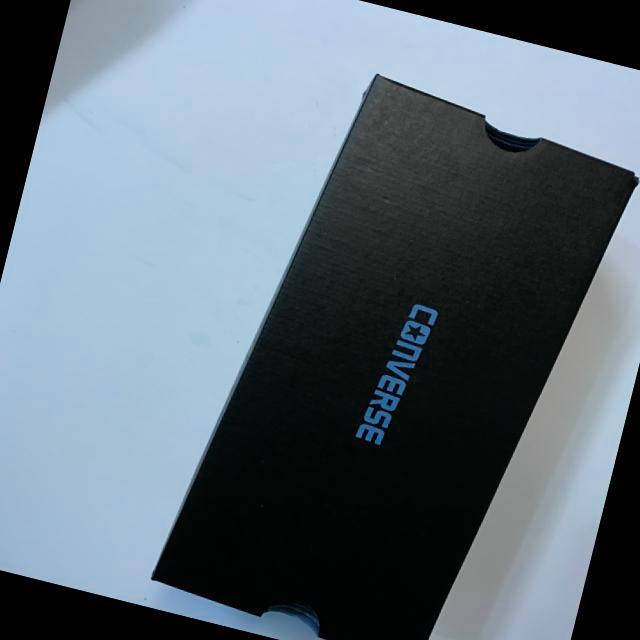cardboard: (136, 16, 640, 640)
